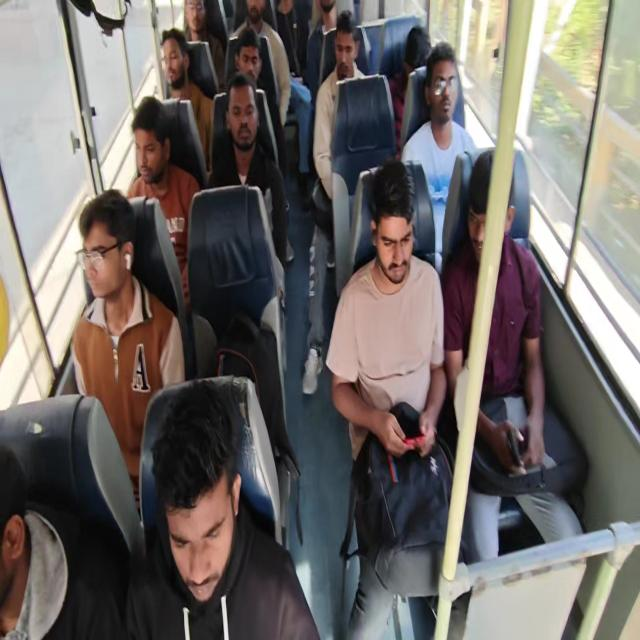person: (128, 394, 224, 623), (0, 396, 73, 640), (54, 188, 146, 320), (480, 168, 544, 353), (365, 183, 430, 358), (428, 52, 486, 185), (122, 85, 181, 212), (152, 34, 191, 125), (225, 85, 258, 177), (277, 0, 313, 79), (328, 18, 365, 88), (406, 18, 440, 85), (180, 0, 216, 49), (230, 45, 264, 94), (312, 0, 344, 42), (232, 3, 275, 33)
